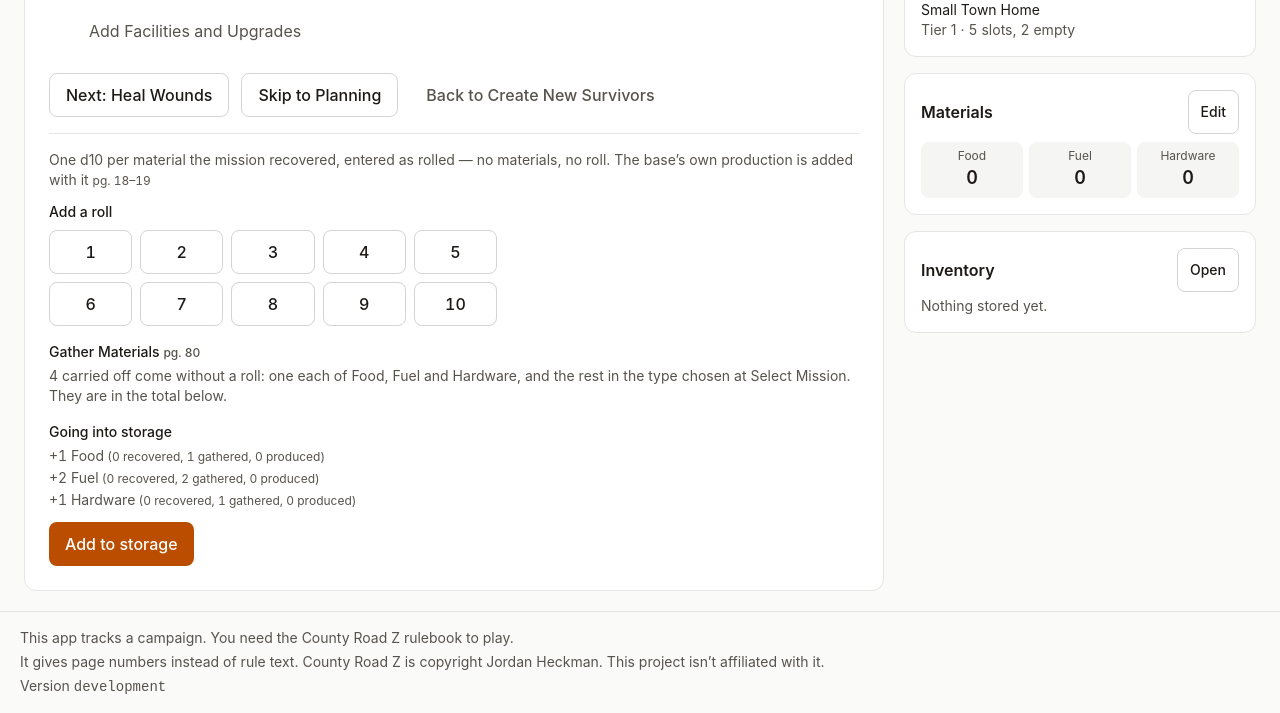
it: Add Materials to Storage › still asks for a mission whose materials are rolled, and names the gathered ones
(page scrolled)
What coordinates should you click on to do the following:
click the button "Add to storage"
I would click on:
 (121, 544)
Its box is [49,522,194,566].
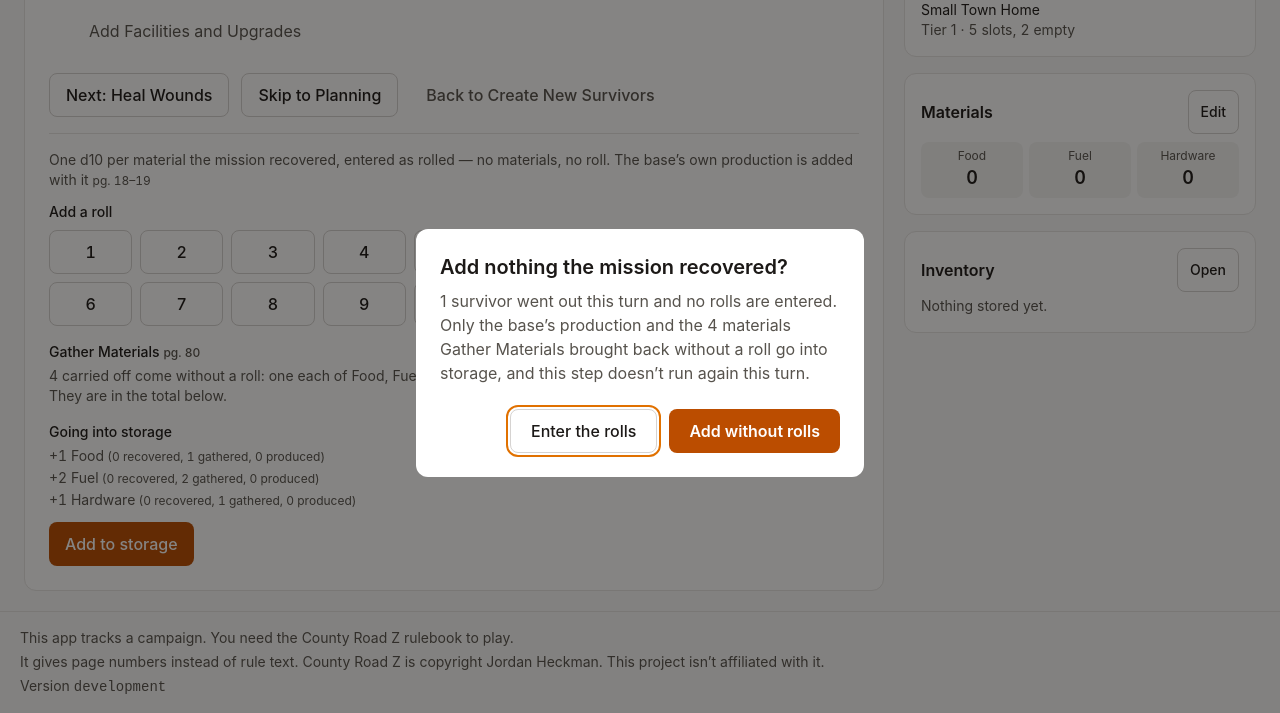
expect the dialog "Add nothing the mission recovered" shows "Only the base’s production and the 4 materials Gather Materials brought back without a roll go into storage, and this step doesn’t run again this turn.": met, box [416,229,864,477]
expect the button "Add without rolls" is shown: met, box [669,409,840,453]
